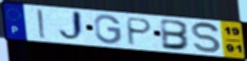B: (160, 18, 192, 52)
G: (93, 14, 123, 46)
I: (36, 8, 48, 40)
J: (57, 9, 87, 43)
P: (126, 16, 155, 47)
S: (191, 21, 223, 54)
